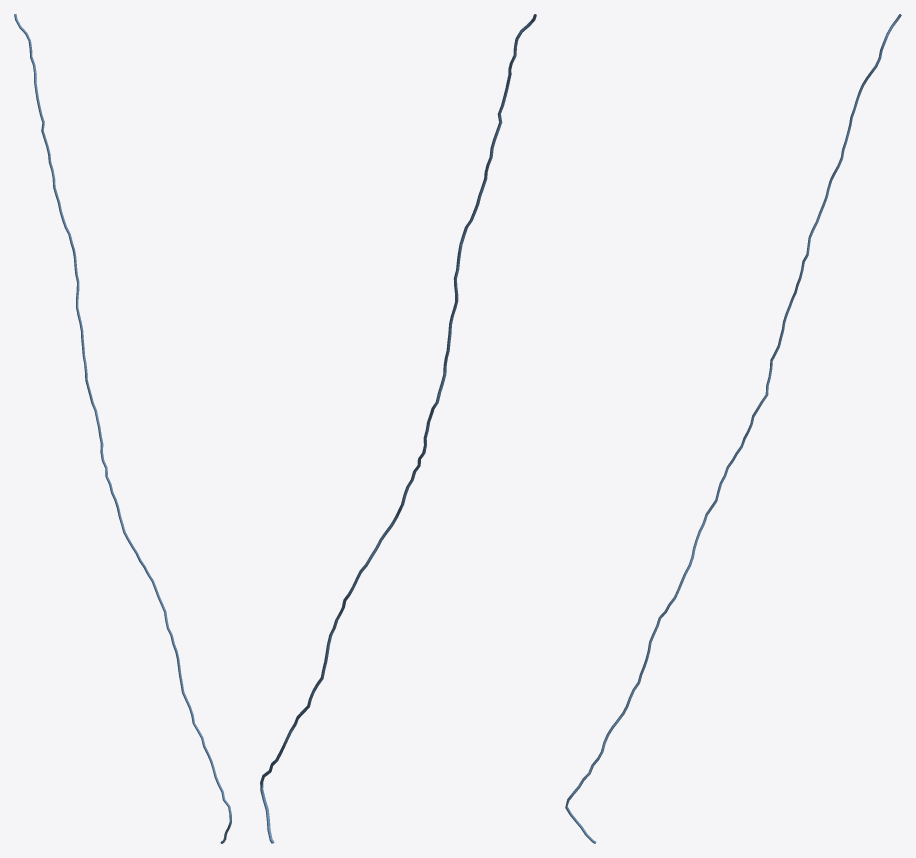
File: sweep380.fbx
3 views of the same model, side by side, from view 1: azimuth 30°, elevation 25°; view 2: azimuth 210°, elevation 25°; view 3: azimuth 270°, elevation 25° (orthographic). The views are drawn at different scales.
Visible parts, largest first — view 1: sweep380; view 2: sweep380; view 3: sweep380.
Part boxes in pixels (x1,y1,x2,y2): sweep380: (14, 14, 231, 843); sweep380: (260, 14, 536, 843); sweep380: (565, 14, 901, 843).
Bounding box in the file's own units: 0.6048 × 6.37 × 2.44.
